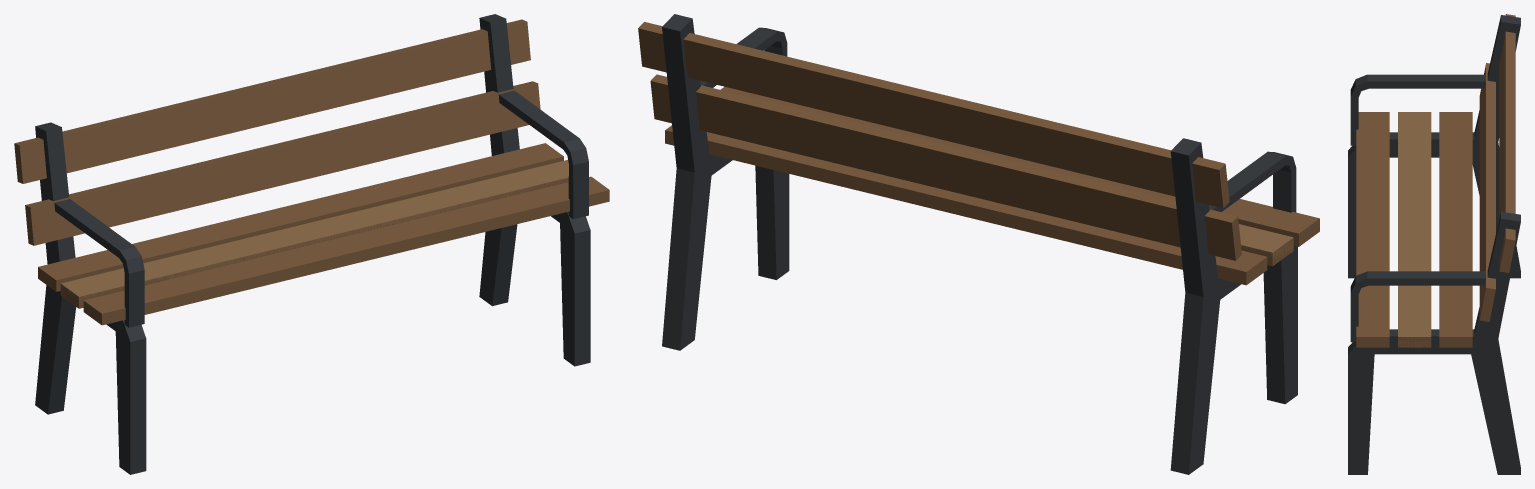
Rendered from banc.glb.
3 views of the same model, side by side, from view 1: azimuth 30°, elevation 25°; view 2: azimuth 150°, elevation 25°; view 3: azimuth 270°, elevation 25° (orthographic). The views are drawn at different scales.
Parts seen in each view (by area): view 1: back, seat, seat_mid, frame_l, frame_r, arm_l, arm_r; view 2: back, seat, frame_l, frame_r, arm_l, seat_mid, arm_r; view 3: seat, frame_r, seat_mid, back, frame_l, arm_l, arm_r.
Boxes of the visible parts, x1=… form: back: x1=14, y1=19, x2=540, y2=245; seat: x1=38, y1=143, x2=609, y2=325; seat_mid: x1=60, y1=160, x2=568, y2=308; frame_l: x1=35, y1=122, x2=146, y2=474; frame_r: x1=479, y1=14, x2=590, y2=366; arm_l: x1=54, y1=199, x2=144, y2=327; arm_r: x1=492, y1=90, x2=588, y2=219; back: x1=638, y1=22, x2=1241, y2=260; seat: x1=665, y1=86, x2=1319, y2=285; frame_l: x1=1170, y1=138, x2=1297, y2=474; frame_r: x1=662, y1=14, x2=789, y2=350; arm_l: x1=1203, y1=151, x2=1296, y2=224; seat_mid: x1=1239, y1=224, x2=1293, y2=266; arm_r: x1=694, y1=27, x2=787, y2=100; seat: x1=1356, y1=112, x2=1472, y2=347; frame_r: x1=1348, y1=211, x2=1520, y2=474; seat_mid: x1=1398, y1=112, x2=1431, y2=347; back: x1=1479, y1=14, x2=1515, y2=321; frame_l: x1=1348, y1=15, x2=1520, y2=278; arm_l: x1=1350, y1=74, x2=1497, y2=145; arm_r: x1=1350, y1=271, x2=1497, y2=342.
Size of the model in its own units: 1.6 by 0.85 by 0.52.
Materials: 3 (3 with a texture image).
